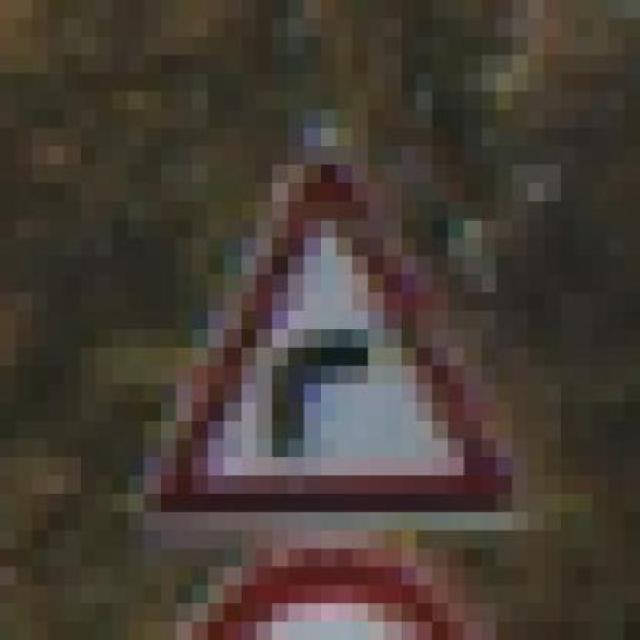Dangerous Rright Curve Ahead: (95, 91, 512, 512)
